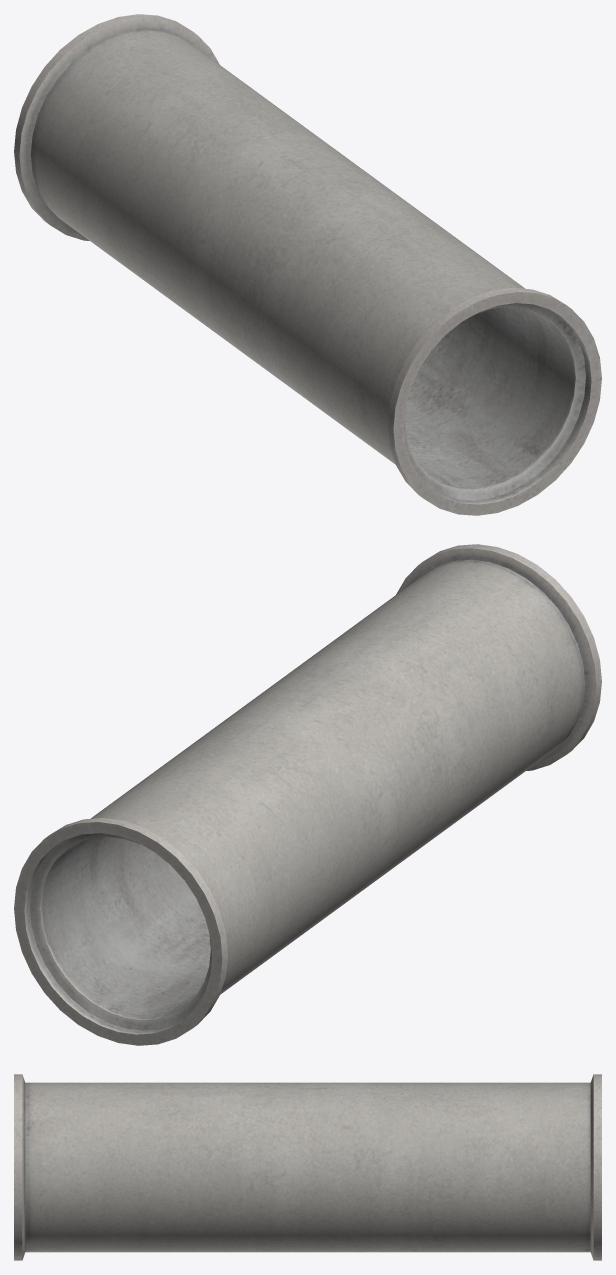
The model's file is concrete_pipe_game_ready.glb.
The picture shows the model from 3 angles, top to bottom: view 1: azimuth 30°, elevation 25°; view 2: azimuth 150°, elevation 25°; view 3: azimuth 270°, elevation 25°; orthographic projection. The views are drawn at different scales.
Parts seen in each view (by area): view 1: Pipe; view 2: Pipe; view 3: Pipe.
Boxes of the visible parts, x1=… form: Pipe: x1=14, y1=14, x2=601, y2=515; Pipe: x1=14, y1=544, x2=601, y2=1045; Pipe: x1=14, y1=1074, x2=601, y2=1260.
Bounding box in the file's own units: 0.6346 × 0.6346 × 2.
1 material, 1 textured.
